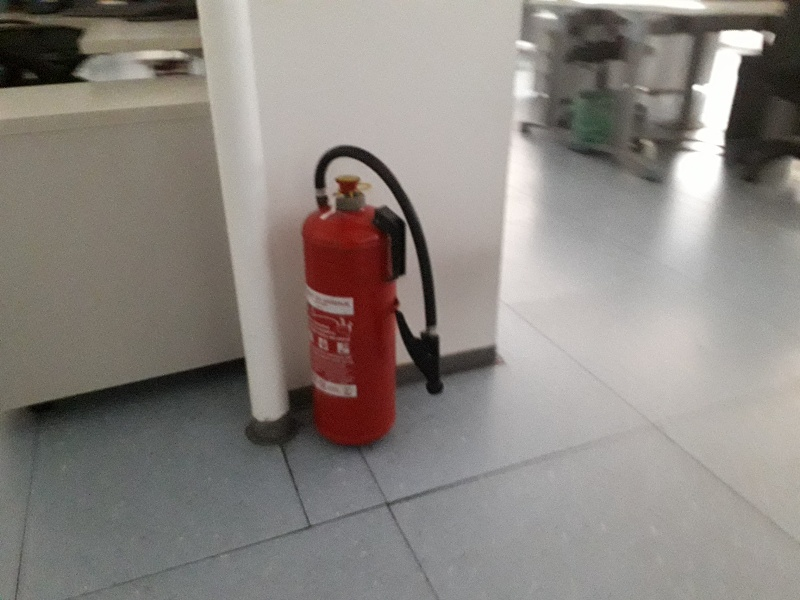vataparat: (302, 145, 445, 441)
